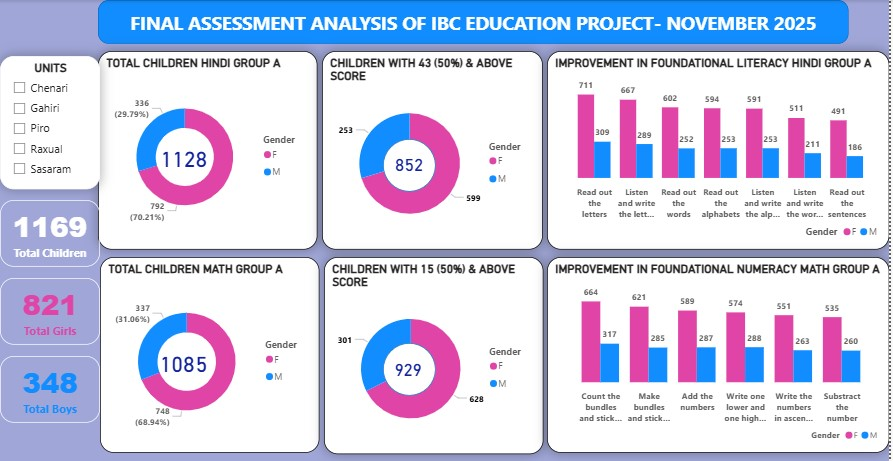

What the dashboard file says about the page in this screenshot:
{"tool":"powerbi","page":{"name":"Group A","canvas":[1280,720],"ordinal":0},"visuals":[{"type":"shape","box":[141.8,0,1081,63.4],"z":0},{"type":"donutChart","title":"TOTAL CHILDREN HINDI GROUP A","fields":{"Category":["Hindi Group A.Gender"],"Y":["CountNonNull(Hindi Group A.Children's Name)"]},"box":[141.8,73.4,316,286.1],"z":1000},{"type":"pieChart","title":"CHILDREN WITH 43 (50%) & ABOVE SCORE","fields":{"Category":["Hindi Group A.Gender"],"Y":["Hindi Group A.Children_Above_43_By_Gender"]},"box":[464.2,73.4,318.5,286.1],"z":2000},{"type":"clusteredColumnChart","title":"IMPROVEMENT IN FOUNDATIONAL LITERACY HINDI GROUP A","fields":{"Series":["Hindi Group A.Gender"],"Y":["Hindi Group A.ImprovedChildren"],"Category":["HindiSkillTable.Columnname"]},"box":[787.4,73.4,492.6,286.1],"z":3000},{"type":"donutChart","title":"TOTAL CHILDREN MATH GROUP A","fields":{"Category":["Group A Math.Gender"],"Y":["CountNonNull(Group A Math.Children's Name)"]},"box":[144.3,370.7,316,282.4],"z":4000},{"type":"pieChart","title":"CHILDREN WITH 15 (50%) & ABOVE SCORE","fields":{"Category":["Group A Math.Gender"],"Y":["Group A Math.Children_Above_15_By_Gender"]},"box":[466.7,369.5,316,283.6],"z":5000},{"type":"clusteredColumnChart","title":"IMPROVEMENT IN FOUNDATIONAL NUMERACY MATH GROUP A","fields":{"Series":["Group A Math.Gender"],"Category":["MathSkillTable.SkillName"],"Y":["Group A Math.Children_Math_Skills_Above_3"]},"box":[787.4,370.7,492.6,282.4],"z":6000},{"type":"slicer","title":"UNITS","fields":{"Values":["Total Children.Unit"]},"box":[0,80,144,192],"z":8000},{"type":"card","fields":{"Values":["CountNonNull(Hindi Group A.Children's Name)"]},"box":[216.4,199,97,56],"z":9000},{"type":"card","fields":{"Values":["CountNonNull(Group A Math.Children's Name)"]},"box":[216.4,493.9,97,56],"z":10000},{"type":"shape","box":[551.1,200.3,75.9,75.9],"z":11000,"group":"g1"},{"type":"card","fields":{"Values":["CountNonNull(Total Children.Total)"]},"box":[0,288,144,96],"z":11000},{"type":"card","fields":{"Values":["Hindi Group A.Children_Above_43_By_Gender"]},"box":[552.3,217.7,72.1,38.6],"z":12000,"group":"g1"},{"type":"card","fields":{"Values":["Total Children.Total Girls"]},"box":[0,400,144,96],"z":12000},{"type":"shape","box":[551.1,493.9,75.9,75.9],"z":13000,"group":"g2"},{"type":"card","fields":{"Values":["Total Children.Total Boys"]},"box":[0,512,144,96],"z":13000},{"type":"group","id":"g1","title":"Group 1","box":[551.1,200.3,75.9,75.9],"z":14000},{"type":"card","fields":{"Values":["Group A Math.Children_Above_15_By_Gender"]},"box":[551.1,512.6,72.1,38.6],"z":14000,"group":"g2"},{"type":"group","id":"g2","title":"Group 2","box":[551.1,493.9,75.9,75.9],"z":15000}]}

Visuals, with their boxes on the page's 1280x720 design canvas (x1, y1, x2, y2). These are canvas units, not pixel positions in the 893x461 screenshot, which may show the page scaled, cropped or inside an application window:
shape: pyautogui.locateOnScreen(142, 0, 1223, 63)
"TOTAL CHILDREN HINDI GROUP A" donutChart: pyautogui.locateOnScreen(142, 73, 458, 360)
"CHILDREN WITH 43 (50%) & ABOVE SCORE" pieChart: pyautogui.locateOnScreen(464, 73, 783, 360)
"IMPROVEMENT IN FOUNDATIONAL LITERACY HINDI GROUP A" clusteredColumnChart: pyautogui.locateOnScreen(787, 73, 1280, 360)
"TOTAL CHILDREN MATH GROUP A" donutChart: pyautogui.locateOnScreen(144, 371, 460, 653)
"CHILDREN WITH 15 (50%) & ABOVE SCORE" pieChart: pyautogui.locateOnScreen(467, 370, 783, 653)
"IMPROVEMENT IN FOUNDATIONAL NUMERACY MATH GROUP A" clusteredColumnChart: pyautogui.locateOnScreen(787, 371, 1280, 653)
"UNITS" slicer: pyautogui.locateOnScreen(0, 80, 144, 272)
card - CountNonNull(Hindi Group A.Children's Name): pyautogui.locateOnScreen(216, 199, 313, 255)
card - CountNonNull(Group A Math.Children's Name): pyautogui.locateOnScreen(216, 494, 313, 550)
shape: pyautogui.locateOnScreen(551, 200, 627, 276)
card - CountNonNull(Total Children.Total): pyautogui.locateOnScreen(0, 288, 144, 384)
card - Hindi Group A.Children_Above_43_By_Gender: pyautogui.locateOnScreen(552, 218, 624, 256)
card - Total Children.Total Girls: pyautogui.locateOnScreen(0, 400, 144, 496)
shape: pyautogui.locateOnScreen(551, 494, 627, 570)
card - Total Children.Total Boys: pyautogui.locateOnScreen(0, 512, 144, 608)
"Group 1" group: pyautogui.locateOnScreen(551, 200, 627, 276)
card - Group A Math.Children_Above_15_By_Gender: pyautogui.locateOnScreen(551, 513, 623, 551)
"Group 2" group: pyautogui.locateOnScreen(551, 494, 627, 570)
